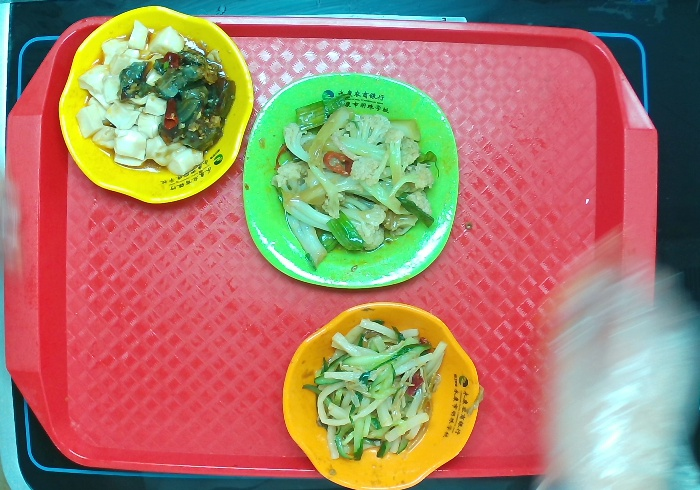YKMZ-Huang_Se_Ao_Bian_Wan: (46, 2, 257, 215)
YKMZ-Ju_Se_Ao_Bian_Wan: (274, 296, 487, 490)
YKMZ-Lv_Se_Fang_Die: (234, 67, 462, 294)
